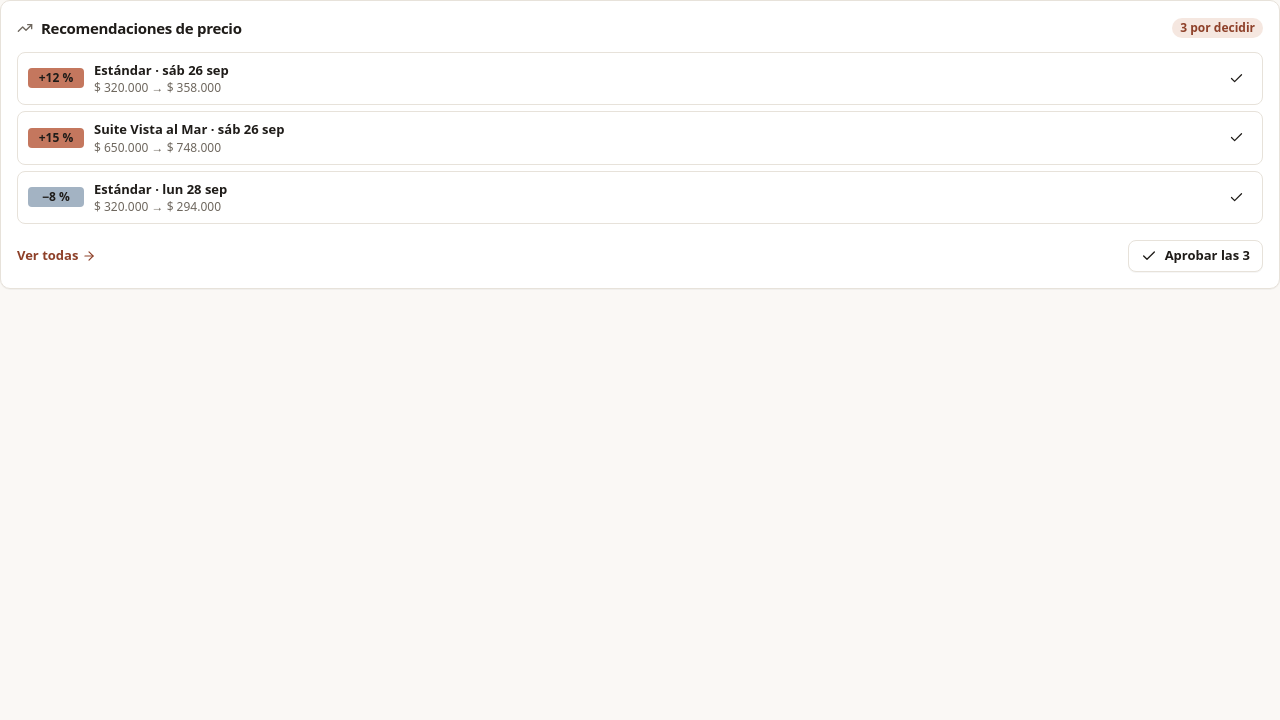
Test: price recommendations widget › shows the next nights to decide and approves one in a click
Expected: the text "3 por decidir" is shown, [1172,18,1263,38]
Expected: the text "+12 %" is shown, [28,68,84,88]
Click the button named "Aprobar Estándar el sáb 26 sep": (1236, 78) [1220,62,1252,94]
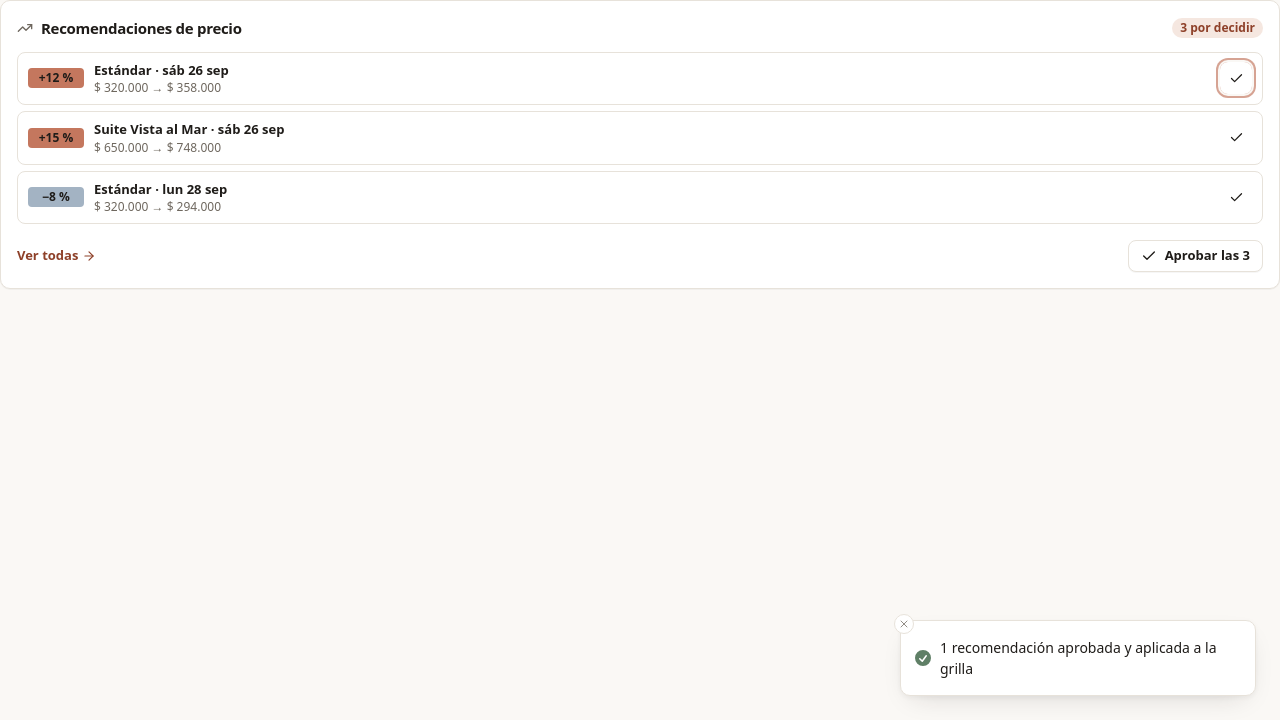
Result: the text "1 recomendación aprobada y aplicada a la grilla" is shown at [940,637,1239,679]
